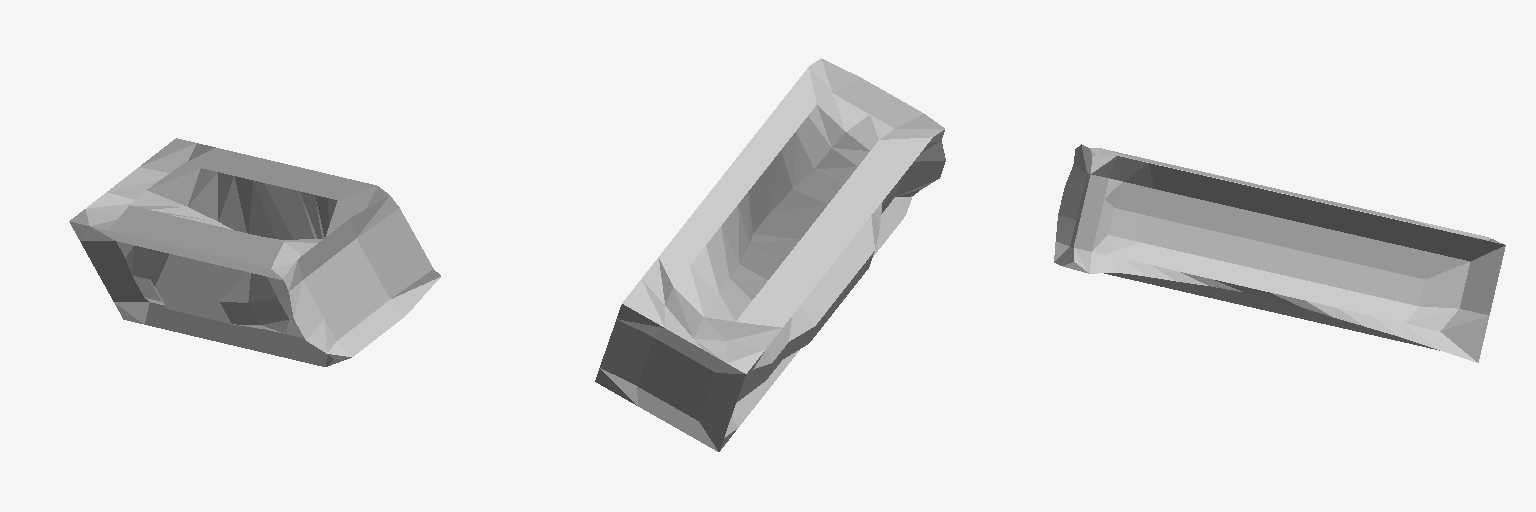
The model's file is seat.obj.
The picture shows the model from 3 angles: view 1: azimuth 30°, elevation 25°; view 2: azimuth 150°, elevation 25°; view 3: azimuth 270°, elevation 25°; orthographic projection.
Parts seen in each view (by area): view 1: Cube.002; view 2: Cube.002; view 3: Cube.002.
Part boxes in pixels (left/top/right/bottom): Cube.002: left=69, top=138, right=440, bottom=366; Cube.002: left=595, top=58, right=945, bottom=451; Cube.002: left=1054, top=144, right=1505, bottom=362.
Size of the model in its own units: 17.39 by 24.14 by 41.22.